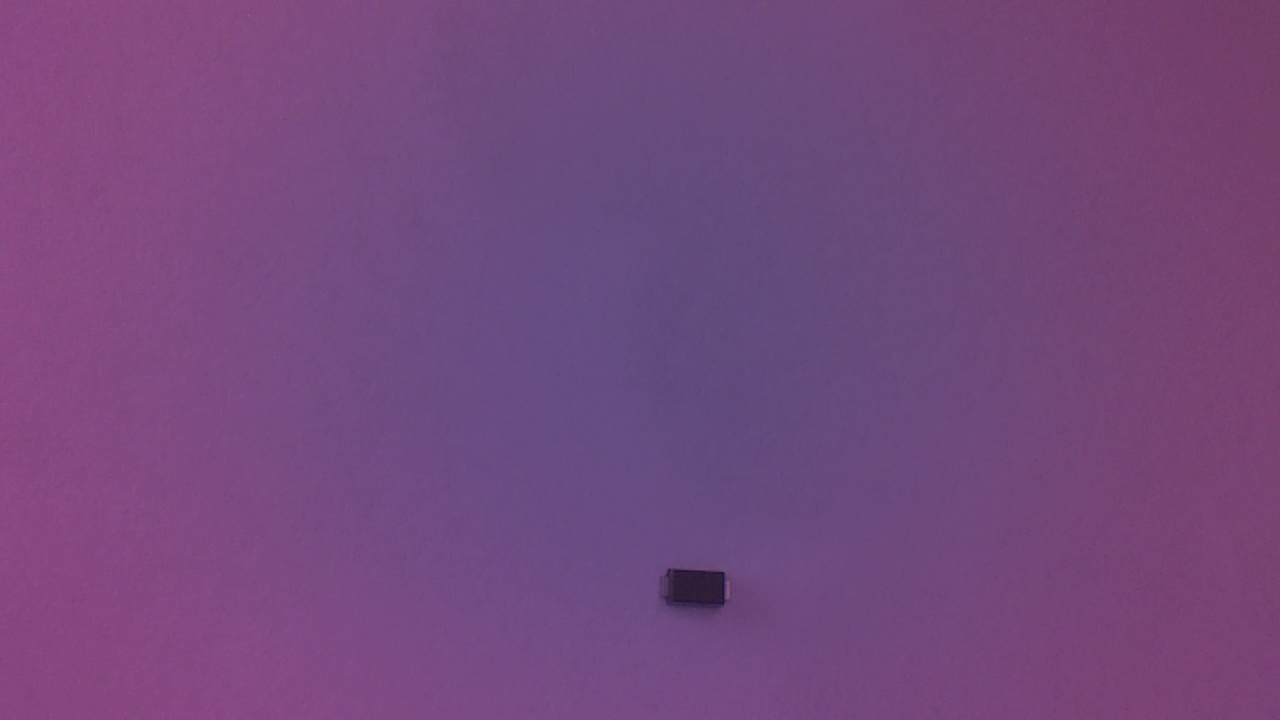Diode: (654, 569, 743, 622)
